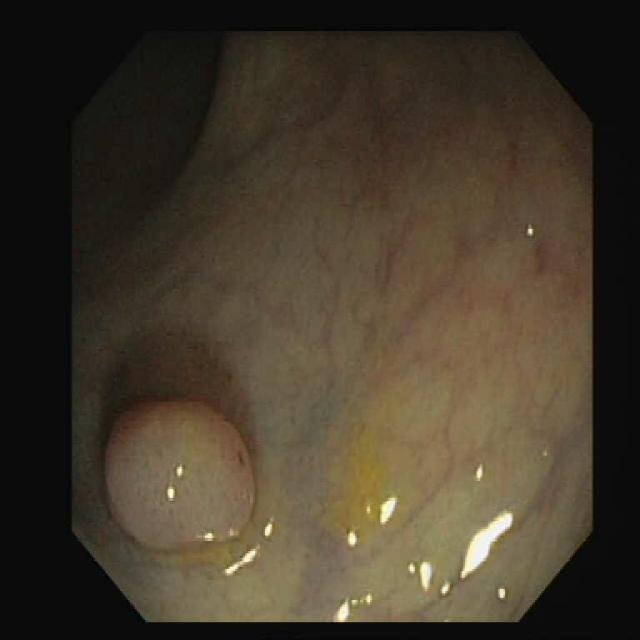tumor: (177, 462, 182, 476)
